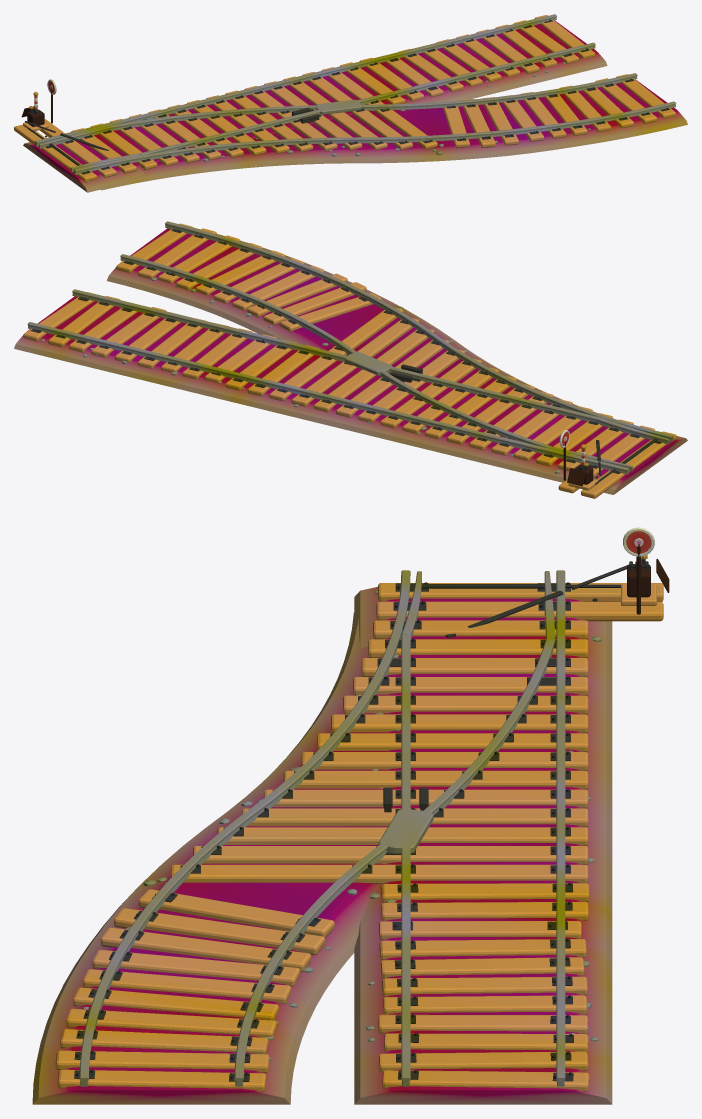
File: Track_Switch_20m_A.glb
3 views of the same model, one above another, from view 1: azimuth 30°, elevation 25°; view 2: azimuth 150°, elevation 25°; view 3: azimuth 270°, elevation 25° (orthographic). The views are drawn at different scales.
Visible parts, largest first — view 1: Track_Switch_20m_A, Blade_D, Broken_Bits; view 2: Track_Switch_20m_A, Blade_S; view 3: Track_Switch_20m_A, Broken_Bits, Switch_Target.
Boxes of the visible parts, <box> form: Track_Switch_20m_A: <box>14,14,687,192</box>; Blade_D: <box>38,126,108,148</box>; Broken_Bits: <box>21,105,120,154</box>; Track_Switch_20m_A: <box>14,221,687,498</box>; Blade_S: <box>596,417,669,444</box>; Track_Switch_20m_A: <box>32,561,663,1104</box>; Broken_Bits: <box>445,558,669,637</box>; Switch_Target: <box>623,527,654,614</box>.
Size of the model in its own units: 20 by 1.96 by 10.61.
